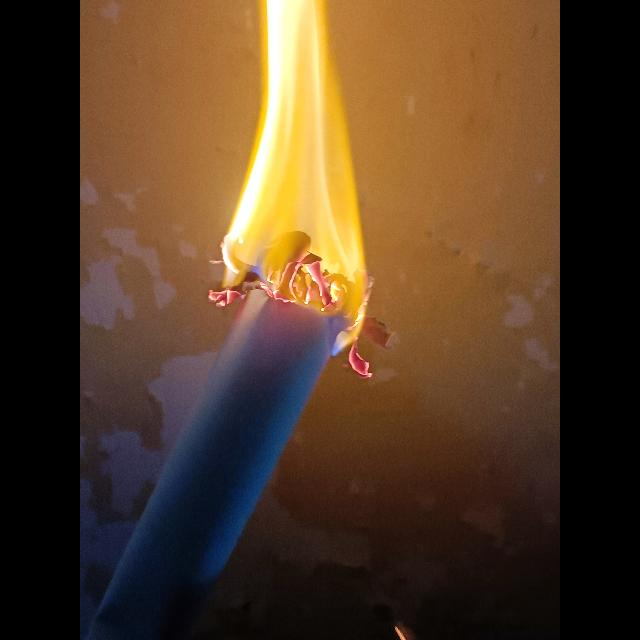fire: (210, 0, 390, 378)
